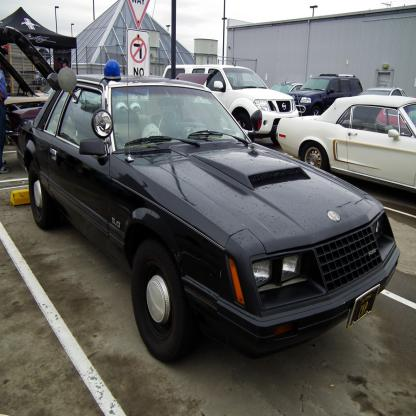Car: (18, 74, 400, 357)
